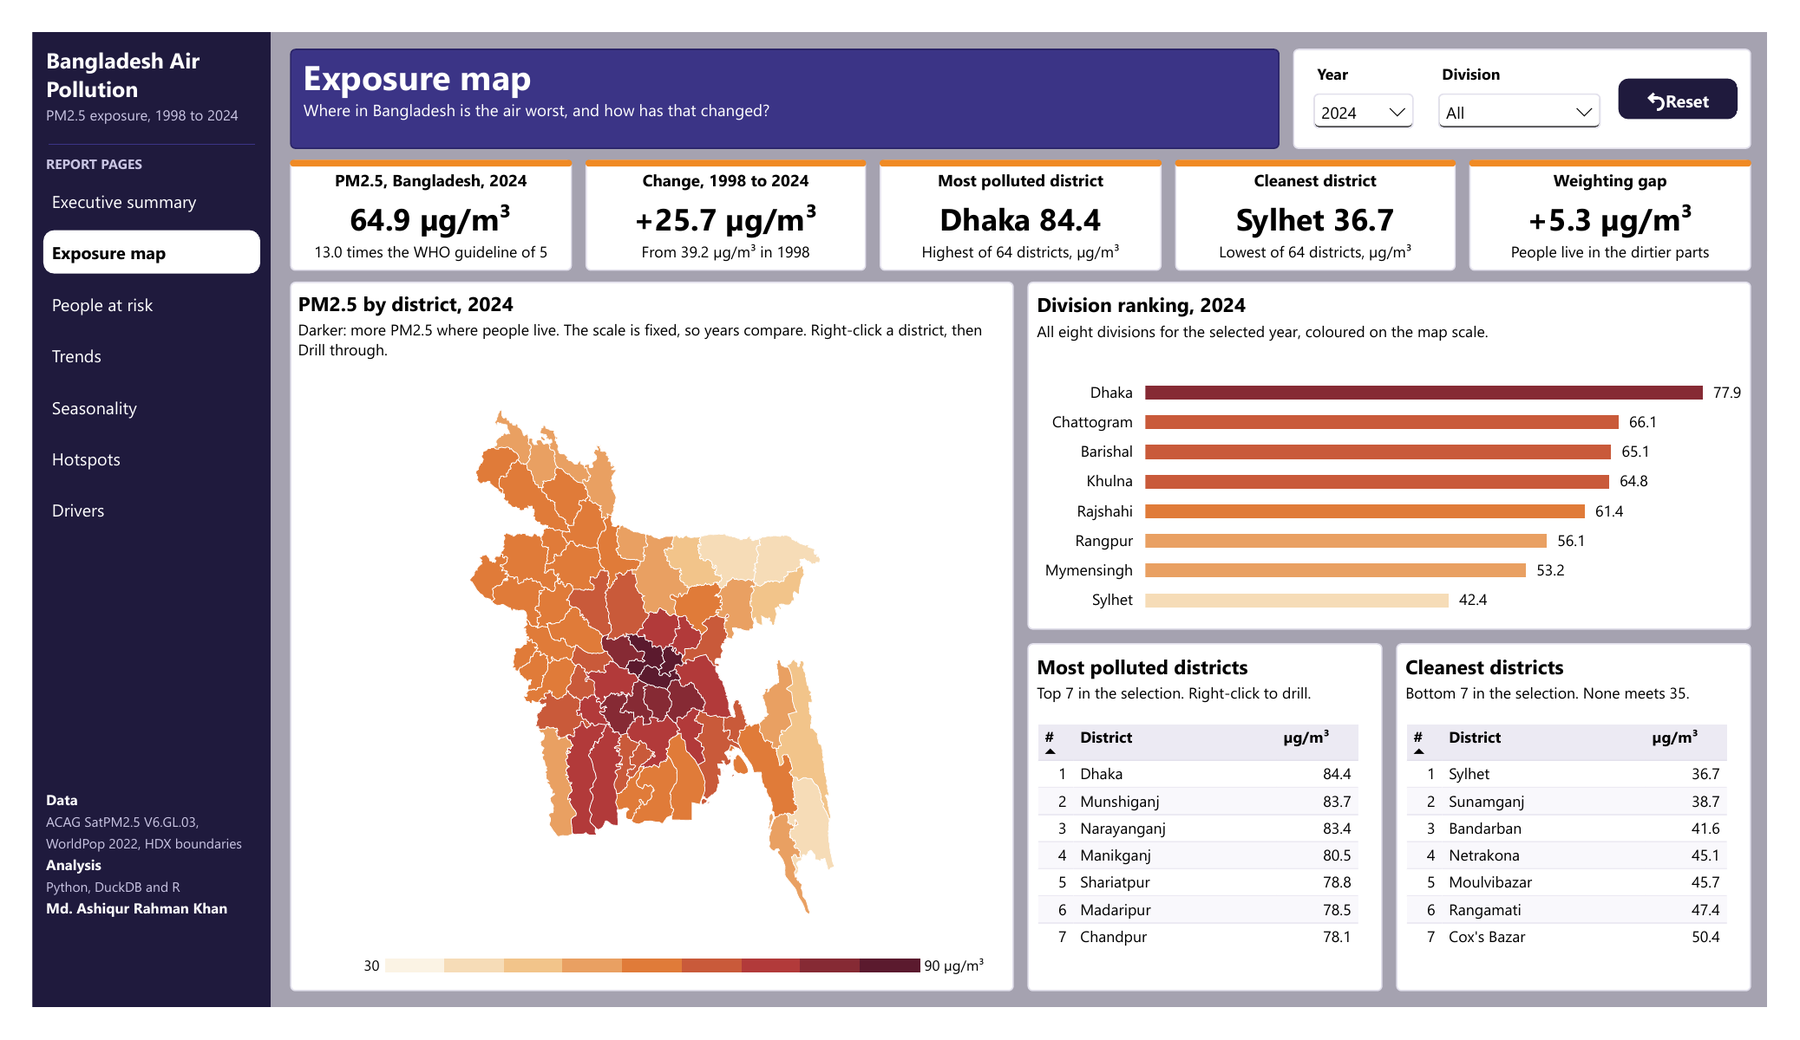

Layout of this report page (visuals, bound fields, positions):
{"tool":"powerbi","page":{"name":"Exposure map","canvas":[1280,720],"ordinal":1},"visuals":[{"type":"shape","box":[0,0,176,720],"z":1100},{"type":"textbox","box":[8,8,160,72],"z":1200},{"type":"shape","box":[12,82,152,1],"z":1300},{"type":"textbox","box":[8,86,160,20],"z":1400},{"type":"actionButton","box":[8,108,160,32],"z":1500},{"type":"actionButton","box":[8,146,160,32],"z":1600},{"type":"actionButton","box":[8,184,160,32],"z":1700},{"type":"actionButton","box":[8,222,160,32],"z":1800},{"type":"actionButton","box":[8,260,160,32],"z":1900},{"type":"actionButton","box":[8,298,160,32],"z":2000},{"type":"actionButton","box":[8,336,160,32],"z":2100},{"type":"textbox","box":[8,556,160,156],"z":2200},{"type":"shape","box":[190,12,730,74],"z":2300},{"type":"textbox","box":[198,14,714,70],"z":2400},{"type":"shape","box":[930,12,338,74],"z":2500},{"type":"slicer","fields":{"Values":["dim_year.year_label"]},"box":[940,23,84,52],"z":2600},{"type":"slicer","fields":{"Values":["dim_geo.division"]},"box":[1032,23,130,52],"z":2700},{"type":"actionButton","box":[1170,34,88,30],"z":2800},{"type":"shape","box":[190,94,207.6,82],"z":2900},{"type":"shape","box":[190,94,207.6,5],"z":3000},{"type":"card","fields":{"Values":["_Measures.KPI Focus PM25 Year"]},"box":[194,99,199.6,58],"z":3100},{"type":"card","fields":{"Values":["_Measures.Sub Focus PM25 Year"]},"box":[193,156,201.6,18],"z":3200},{"type":"shape","box":[407.6,94,207.6,82],"z":3300},{"type":"shape","box":[407.6,94,207.6,5],"z":3400},{"type":"card","fields":{"Values":["_Measures.KPI Change 1998"]},"box":[411.6,99,199.6,58],"z":3500},{"type":"card","fields":{"Values":["_Measures.Sub Change 1998"]},"box":[410.6,156,201.6,18],"z":3600},{"type":"shape","box":[625.2,94,207.6,82],"z":3700},{"type":"shape","box":[625.2,94,207.6,5],"z":3800},{"type":"card","title":"Most polluted district","fields":{"Values":["_Measures.KPI Worst District"]},"box":[629.2,99,199.6,58],"z":3900},{"type":"card","fields":{"Values":["_Measures.Sub Districts In View"]},"box":[628.2,156,201.6,18],"z":4000},{"type":"shape","box":[842.8,94,207.6,82],"z":4100},{"type":"shape","box":[842.8,94,207.6,5],"z":4200},{"type":"card","title":"Cleanest district","fields":{"Values":["_Measures.KPI Cleanest District"]},"box":[846.8,99,199.6,58],"z":4300},{"type":"card","fields":{"Values":["_Measures.Sub Districts Lowest"]},"box":[845.8,156,201.6,18],"z":4400},{"type":"shape","box":[1060.4,94,207.6,82],"z":4500},{"type":"shape","box":[1060.4,94,207.6,5],"z":4600},{"type":"card","title":"Weighting gap","fields":{"Values":["_Measures.KPI Gap"]},"box":[1064.4,99,199.6,58],"z":4700},{"type":"card","fields":{"Values":["_Measures.Sub Gap"]},"box":[1063.4,156,201.6,18],"z":4800},{"type":"shape","box":[190,184,534,524],"z":4900},{"type":"shapeMap","fields":{"Category":["dim_geo.district"],"Y":["_Measures.PM25 Year"]},"box":[190,184,534,494],"z":5000},{"type":"shape","box":[260,684,44.3,10],"z":5100},{"type":"shape","box":[303.8,684,44.3,10],"z":5200},{"type":"shape","box":[347.6,684,44.3,10],"z":5300},{"type":"shape","box":[391.3,684,44.3,10],"z":5400},{"type":"shape","box":[435.1,684,44.3,10],"z":5500},{"type":"shape","box":[478.9,684,44.3,10],"z":5600},{"type":"shape","box":[522.7,684,44.3,10],"z":5700},{"type":"shape","box":[566.4,684,44.3,10],"z":5800},{"type":"shape","box":[610.2,684,44.3,10],"z":5900},{"type":"textbox","box":[200,680,56,18],"z":6000},{"type":"textbox","box":[658,680,56,18],"z":6100},{"type":"clusteredBarChart","fields":{"Category":["dim_geo.name"],"Y":["_Measures.PM25 Year"]},"box":[734,184,534,257],"z":6200},{"type":"tableEx","title":"Most polluted districts","fields":{"Values":["_Measures.Top Rank","dim_geo.district","_Measures.Top PM25 Year"]},"box":[734,451,262,257],"z":6300},{"type":"tableEx","title":"Cleanest districts","fields":{"Values":["_Measures.Bottom Rank","dim_geo.district","_Measures.Bottom PM25 Year"]},"box":[1006,451,262,257],"z":6400}]}

Visuals, with their boxes on the page's 1280x720 design canvas (x1, y1, x2, y2). These are canvas units, not pixel positions in the 1800x1040 screenshot, which may show the page scaled, cropped or inside an application window:
shape: select_region(0, 0, 176, 720)
textbox: select_region(8, 8, 168, 80)
shape: select_region(12, 82, 164, 83)
textbox: select_region(8, 86, 168, 106)
actionButton: select_region(8, 108, 168, 140)
actionButton: select_region(8, 146, 168, 178)
actionButton: select_region(8, 184, 168, 216)
actionButton: select_region(8, 222, 168, 254)
actionButton: select_region(8, 260, 168, 292)
actionButton: select_region(8, 298, 168, 330)
actionButton: select_region(8, 336, 168, 368)
textbox: select_region(8, 556, 168, 712)
shape: select_region(190, 12, 920, 86)
textbox: select_region(198, 14, 912, 84)
shape: select_region(930, 12, 1268, 86)
slicer - dim_year.year_label: select_region(940, 23, 1024, 75)
slicer - dim_geo.division: select_region(1032, 23, 1162, 75)
actionButton: select_region(1170, 34, 1258, 64)
shape: select_region(190, 94, 398, 176)
shape: select_region(190, 94, 398, 99)
card - _Measures.KPI Focus PM25 Year: select_region(194, 99, 394, 157)
card - _Measures.Sub Focus PM25 Year: select_region(193, 156, 395, 174)
shape: select_region(408, 94, 615, 176)
shape: select_region(408, 94, 615, 99)
card - _Measures.KPI Change 1998: select_region(412, 99, 611, 157)
card - _Measures.Sub Change 1998: select_region(411, 156, 612, 174)
shape: select_region(625, 94, 833, 176)
shape: select_region(625, 94, 833, 99)
"Most polluted district" card: select_region(629, 99, 829, 157)
card - _Measures.Sub Districts In View: select_region(628, 156, 830, 174)
shape: select_region(843, 94, 1050, 176)
shape: select_region(843, 94, 1050, 99)
"Cleanest district" card: select_region(847, 99, 1046, 157)
card - _Measures.Sub Districts Lowest: select_region(846, 156, 1047, 174)
shape: select_region(1060, 94, 1268, 176)
shape: select_region(1060, 94, 1268, 99)
"Weighting gap" card: select_region(1064, 99, 1264, 157)
card - _Measures.Sub Gap: select_region(1063, 156, 1265, 174)
shape: select_region(190, 184, 724, 708)
shapeMap - dim_geo.district x _Measures.PM25 Year: select_region(190, 184, 724, 678)
shape: select_region(260, 684, 304, 694)
shape: select_region(304, 684, 348, 694)
shape: select_region(348, 684, 392, 694)
shape: select_region(391, 684, 436, 694)
shape: select_region(435, 684, 479, 694)
shape: select_region(479, 684, 523, 694)
shape: select_region(523, 684, 567, 694)
shape: select_region(566, 684, 611, 694)
shape: select_region(610, 684, 654, 694)
textbox: select_region(200, 680, 256, 698)
textbox: select_region(658, 680, 714, 698)
clusteredBarChart - dim_geo.name x _Measures.PM25 Year: select_region(734, 184, 1268, 441)
"Most polluted districts" tableEx: select_region(734, 451, 996, 708)
"Cleanest districts" tableEx: select_region(1006, 451, 1268, 708)
